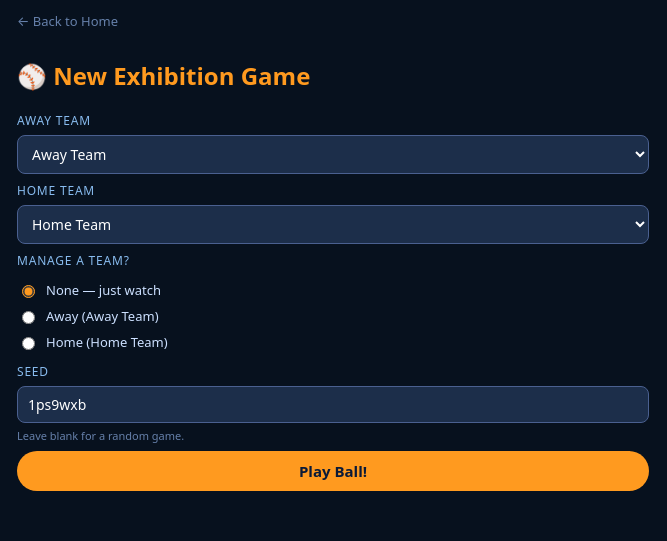
Test: ExhibitionSetupPage › self-matchup is blocked — shows validation error when home and away teams are the same
// Change the home select to match the away team (ct_away), creating a self-matchup.
Step 1. Select "Away Team" in the dropdown with test id "new-game-custom-home-team-select" → coordinates (333, 224), box 17,205 -> 649,244
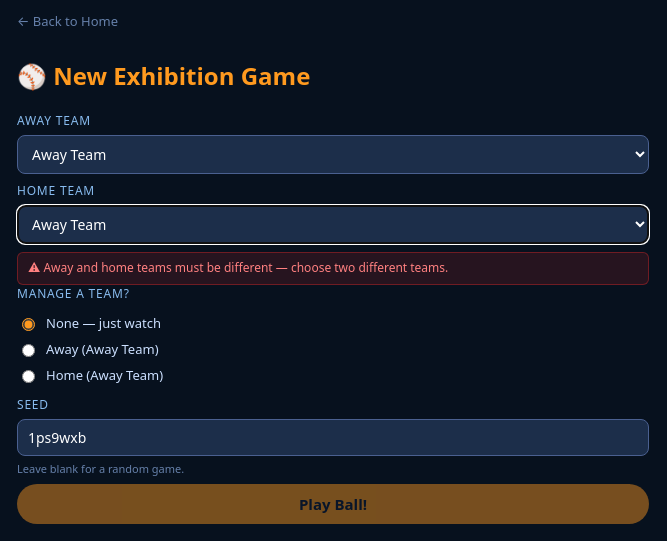
Now the message with test id "team-validation-error" shows "Away and home teams must be different", box 43,259 -> 448,276
Now the button with test id "play-ball-button" is disabled, box 17,484 -> 649,524
